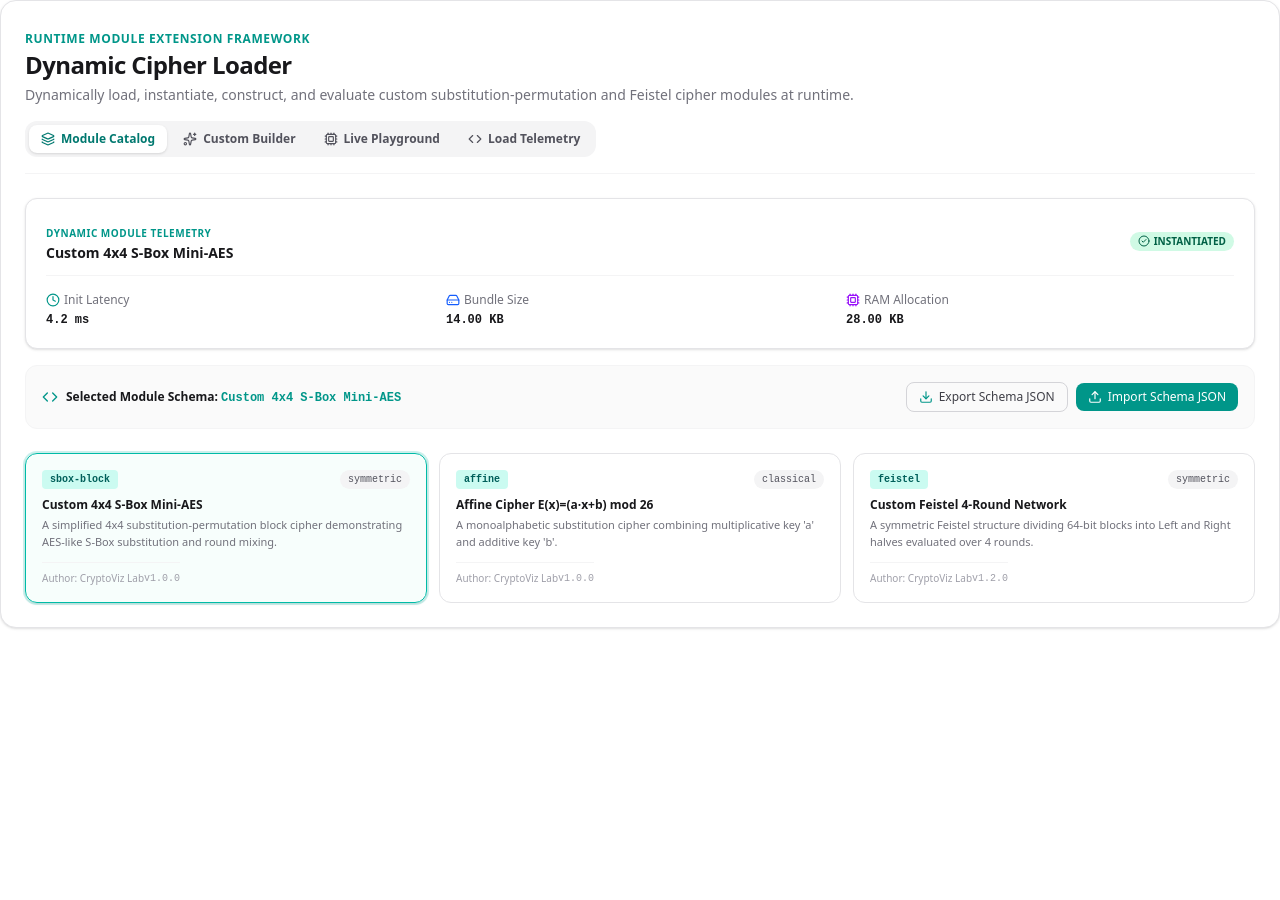
DynamicCipherLoader › executes encryption in playground tab
The width and height of the screenshot is (1280, 900).
Click the button "Live Playground". click: click(382, 139)
box: x1=312 y1=125 x2=452 y2=153
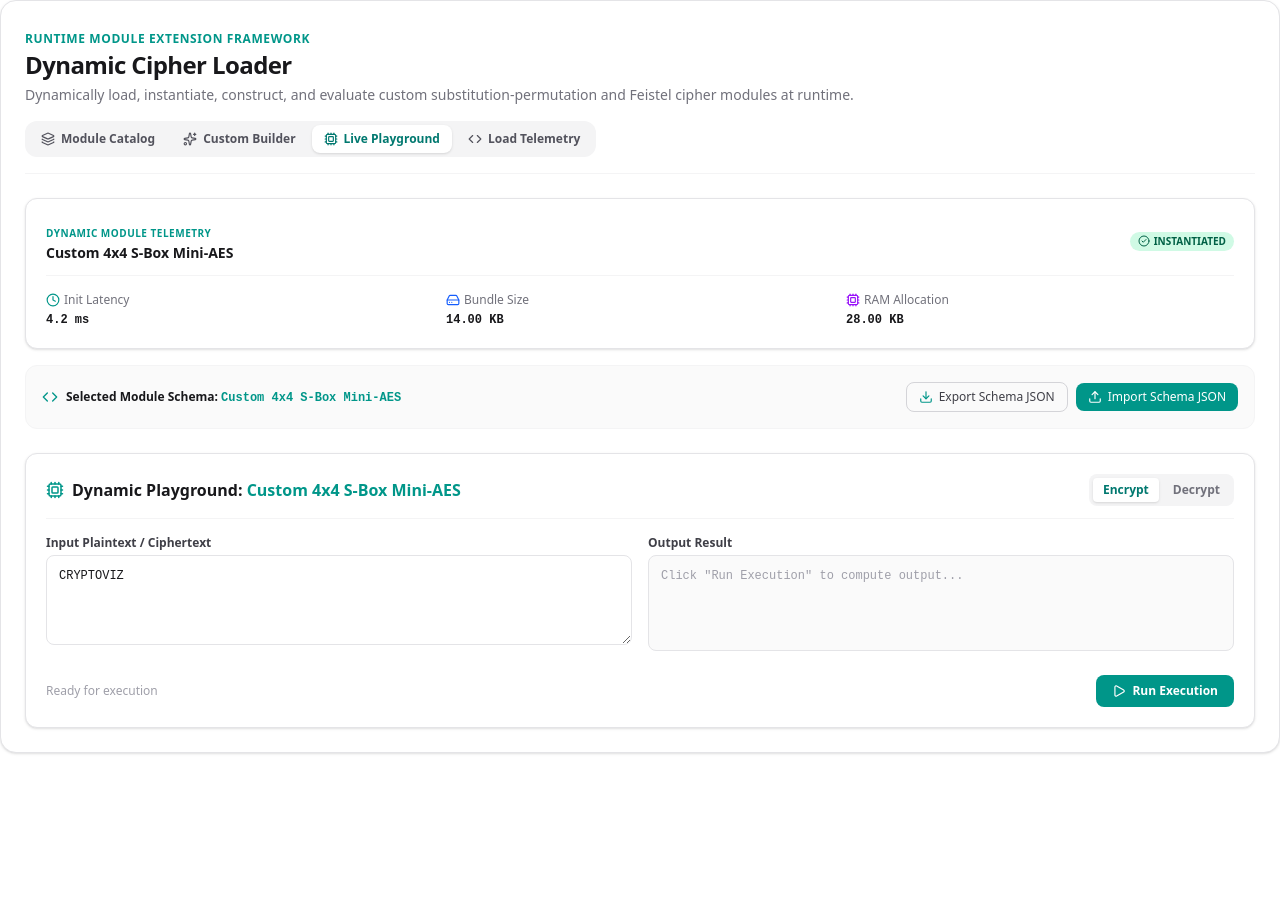
Click the button "Run Execution". click: click(1165, 691)
box: x1=1096 y1=675 x2=1234 y2=707
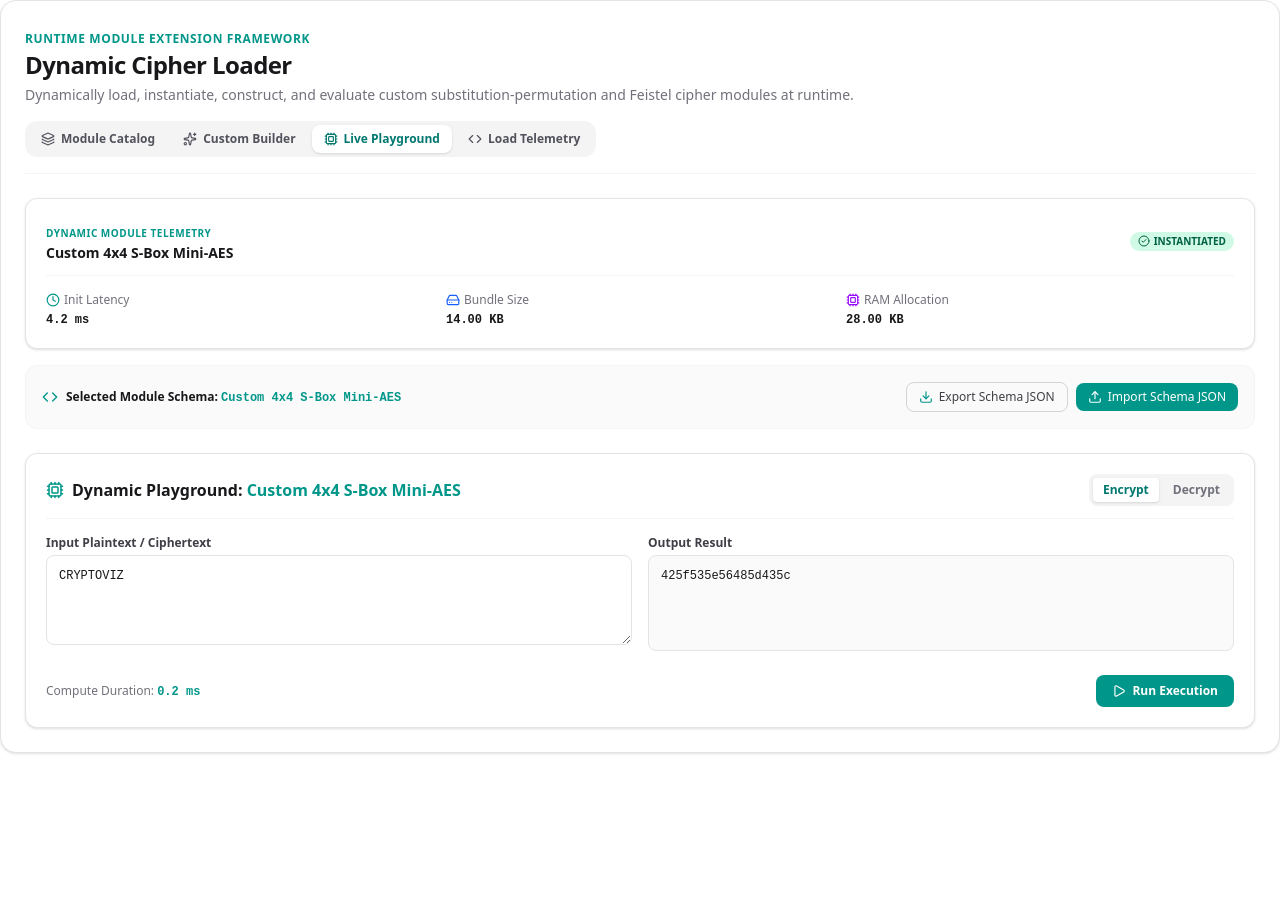
Result: the text "Compute Duration: 0.2 ms" is shown at x1=46 y1=682 x2=200 y2=700
